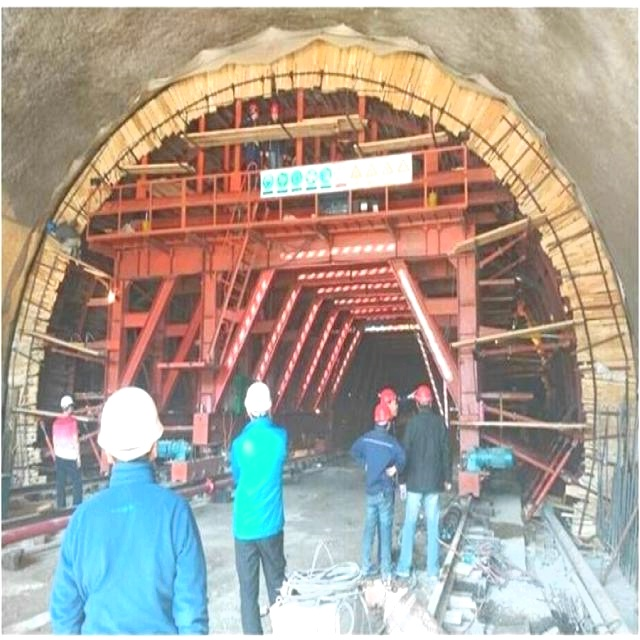Con_Casco: (100, 386, 164, 467), (245, 381, 271, 423)
Sin_Chaleco: (76, 483, 181, 638), (234, 427, 284, 534), (408, 413, 443, 487)
